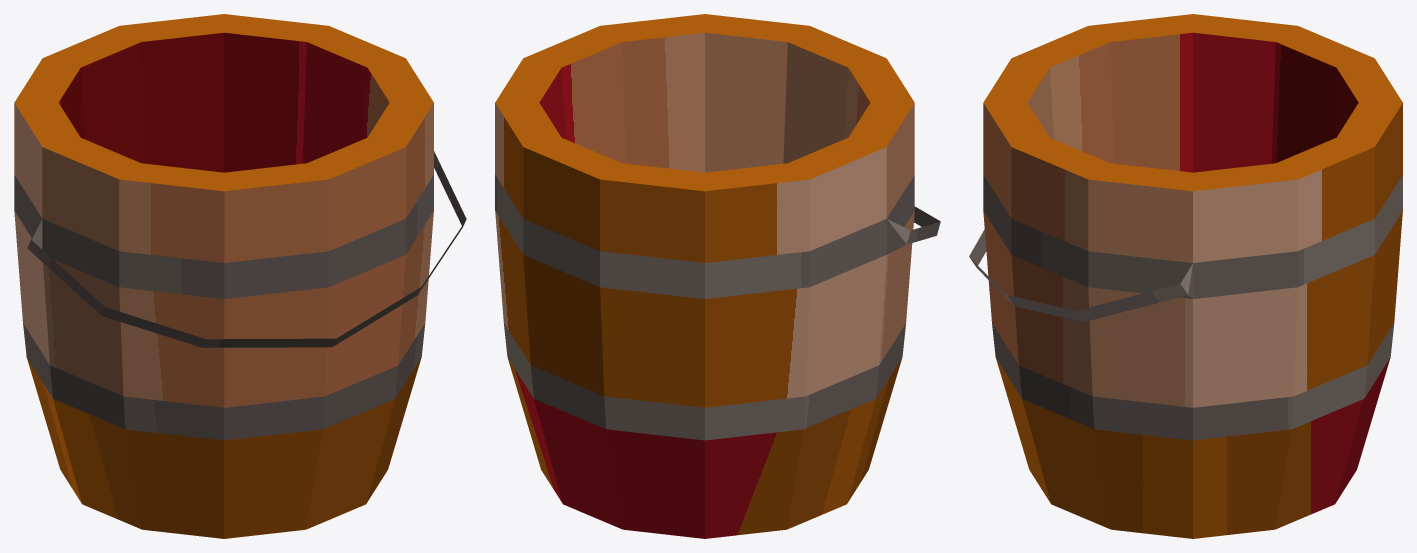
Rendered from bucket_810x00.gltf.
3 renders of one model, left to right at view 1: azimuth 30°, elevation 25°; view 2: azimuth 150°, elevation 25°; view 3: azimuth 270°, elevation 25°, orthographic.
Visible parts, largest first — view 1: bucket_810x00; view 2: bucket_810x00; view 3: bucket_810x00.
Boxes of the visible parts, x1=… form: bucket_810x00: x1=14, y1=14, x2=466, y2=538; bucket_810x00: x1=495, y1=14, x2=940, y2=538; bucket_810x00: x1=969, y1=14, x2=1402, y2=538.
Bounding box in the file's own units: 0.8779 × 0.772 × 0.8272.
Materials: 1 (1 with a texture image).
